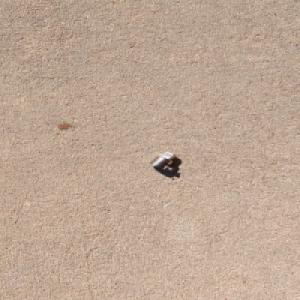MetalPart: (148, 150, 178, 172)
